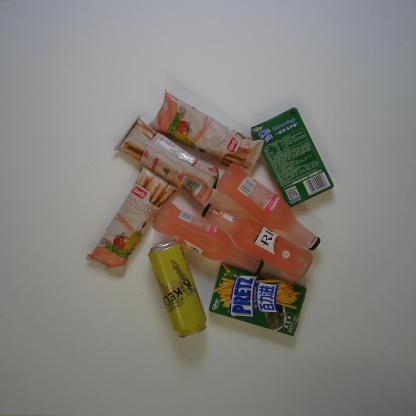Alcohol: (214, 160, 324, 253), (200, 203, 316, 284), (151, 198, 265, 278), (147, 239, 208, 340)
Dessert: (84, 162, 180, 280), (147, 88, 266, 181), (110, 113, 220, 212), (249, 106, 335, 208), (206, 262, 308, 340)
